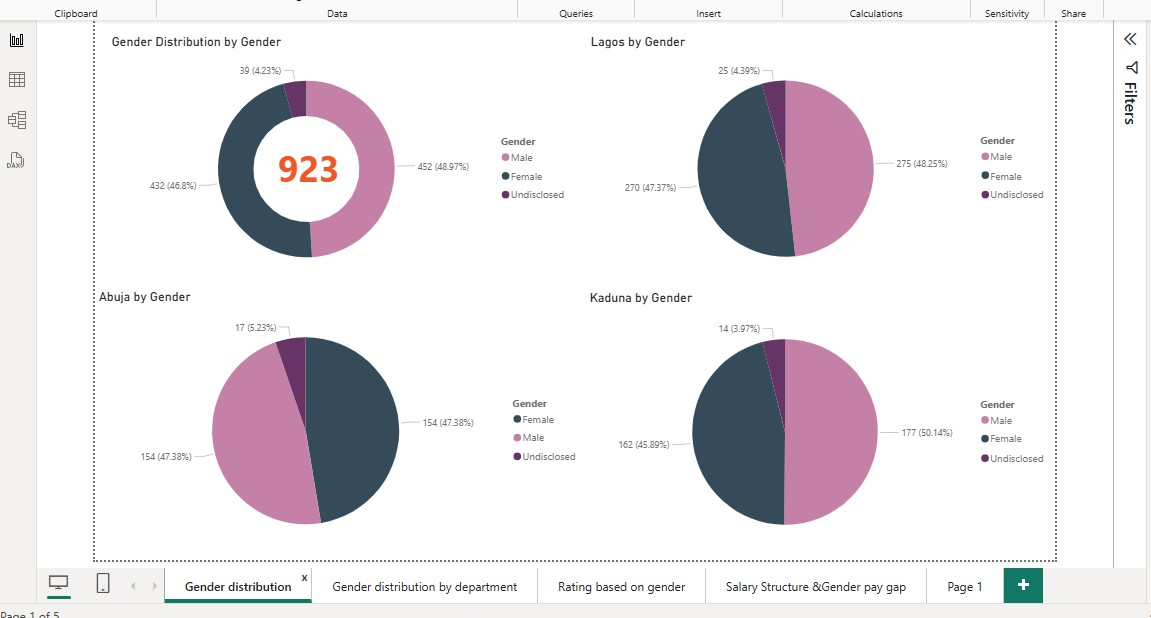

Layout of this report page (visuals, bound fields, positions):
{"tool":"powerbi","page":{"name":"Gender distribution","canvas":[1280,720],"ordinal":0},"visuals":[{"type":"pieChart","fields":{"Y":["CountNonNull(moria Group emp-data.Location)","select"],"Category":["moria Group emp-data.Gender"]},"box":[0,359.1,655.8,359.1],"z":0},{"type":"pieChart","fields":{"Y":["CountNonNull(moria Group emp-data.Location)","select"],"Category":["moria Group emp-data.Gender"]},"box":[655.1,359.8,624.9,359.8],"z":1000},{"type":"pieChart","fields":{"Y":["CountNonNull(moria Group emp-data.Location)","select"],"Category":["moria Group emp-data.Gender"]},"box":[655.8,18.9,623.6,340.2],"z":2000},{"type":"donutChart","fields":{"Category":["moria Group emp-data.Gender"],"Y":["CountNonNull(moria Group emp-data.Gender)"]},"box":[17,19,623,341],"z":3000},{"type":"textbox","box":[225.3,159.1,111.7,73.8],"z":4000}]}

Visuals, with their boxes on the page's 1280x720 design canvas (x1, y1, x2, y2). These are canvas units, not pixel positions in the 1151x618 screenshot, which may show the page scaled, cropped or inside an application window:
pieChart - CountNonNull(moria Group emp-data.Location) x select: {"x1": 0, "y1": 359, "x2": 656, "y2": 718}
pieChart - CountNonNull(moria Group emp-data.Location) x select: {"x1": 655, "y1": 360, "x2": 1280, "y2": 720}
pieChart - CountNonNull(moria Group emp-data.Location) x select: {"x1": 656, "y1": 19, "x2": 1279, "y2": 359}
donutChart - moria Group emp-data.Gender x CountNonNull(moria Group emp-data.Gender): {"x1": 17, "y1": 19, "x2": 640, "y2": 360}
textbox: {"x1": 225, "y1": 159, "x2": 337, "y2": 233}
